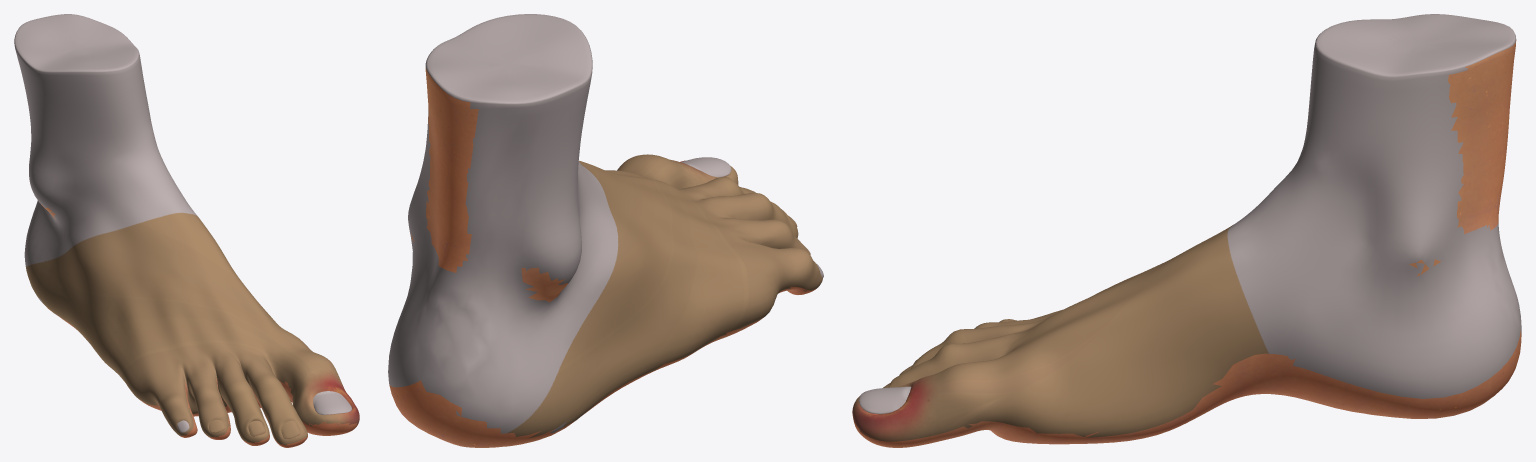
3 renders of one model, left to right at view 1: azimuth 30°, elevation 25°; view 2: azimuth 150°, elevation 25°; view 3: azimuth 270°, elevation 25°, orthographic. The views are drawn at different scales.
Visible parts, largest first — view 1: BigToe, Foot; view 2: BigToe, Foot; view 3: BigToe, Foot.
Boxes of the visible parts, x1,y1,x2,y2 form: BigToe: [14, 14, 359, 445]; Foot: [41, 204, 357, 447]; BigToe: [388, 14, 823, 438]; Foot: [389, 67, 816, 447]; BigToe: [852, 14, 1521, 441]; Foot: [852, 40, 1521, 447].
Size of the model in its own units: 0.5557 by 0.948 by 1.54.
2 materials, 2 textured.
